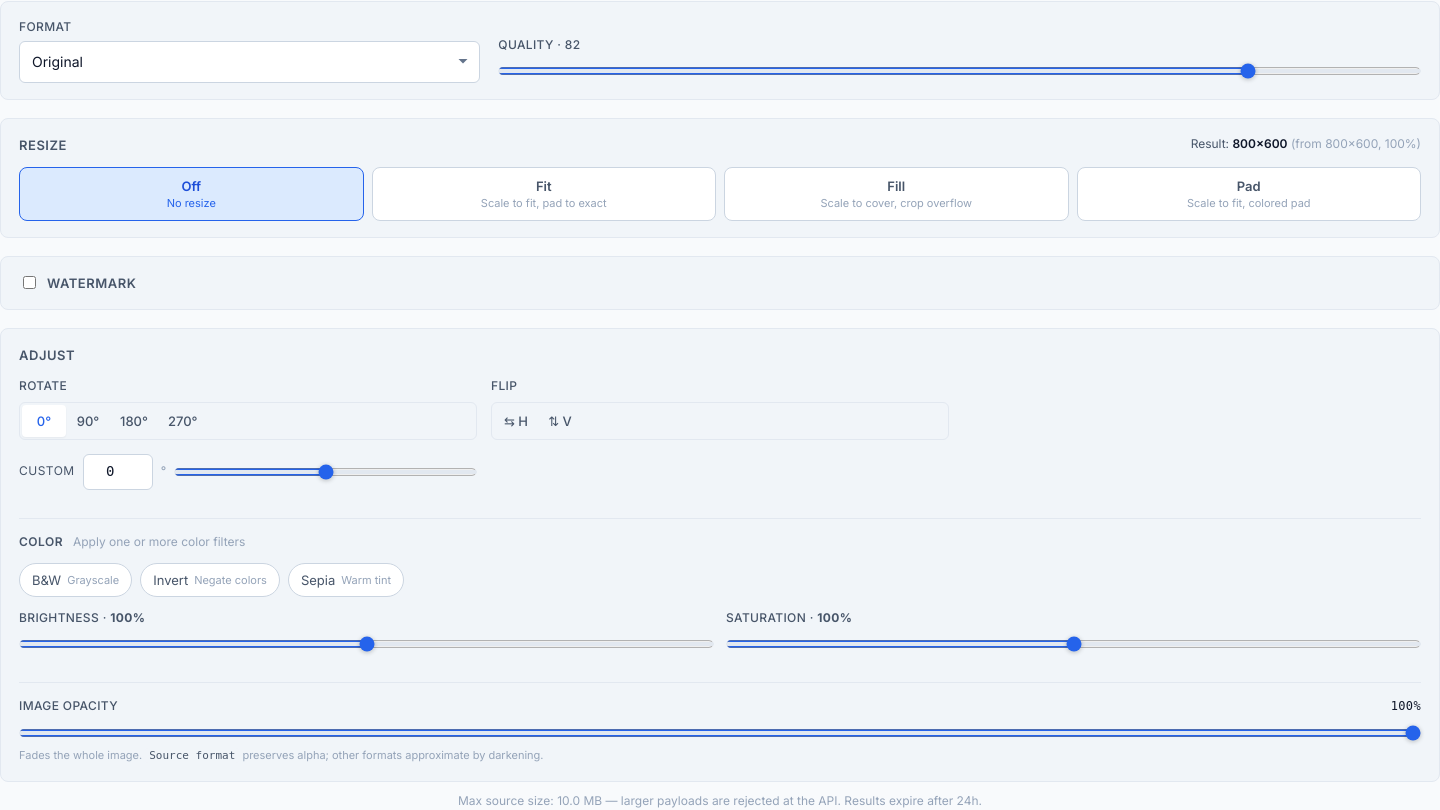
JobForm › image opacity slider updates the visible value
(page scrolled)
Set the slider named "image opacity" to "42": [609, 734] box left=19, top=722, right=1421, bottom=746
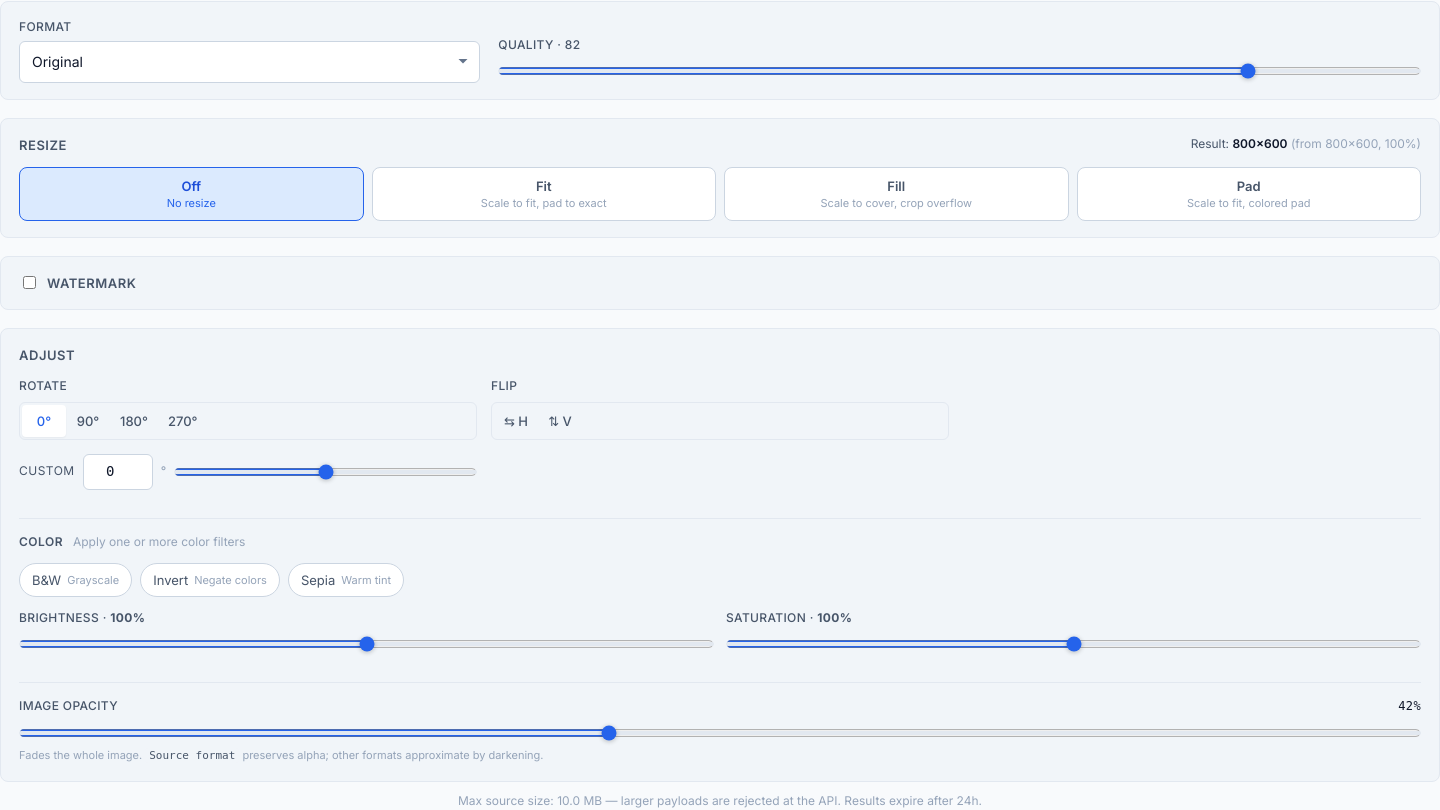
Now the text "42%" is shown, box left=1398, top=697, right=1421, bottom=716
